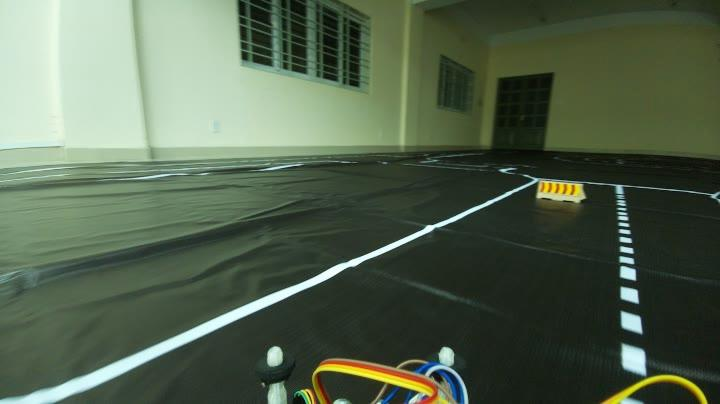roadblock: (528, 172, 592, 206)
